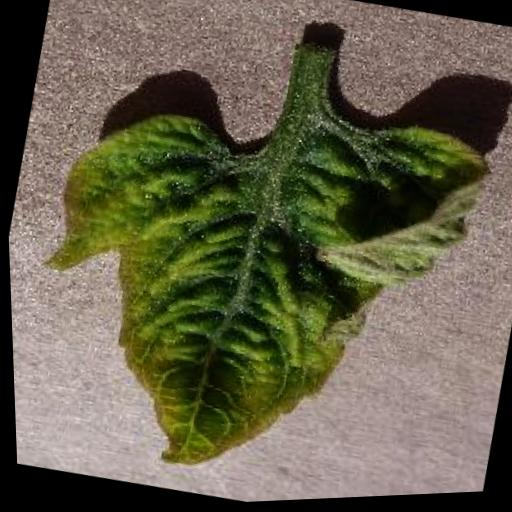Yellow Leaf Curl Virus: (2, 53, 505, 512)
